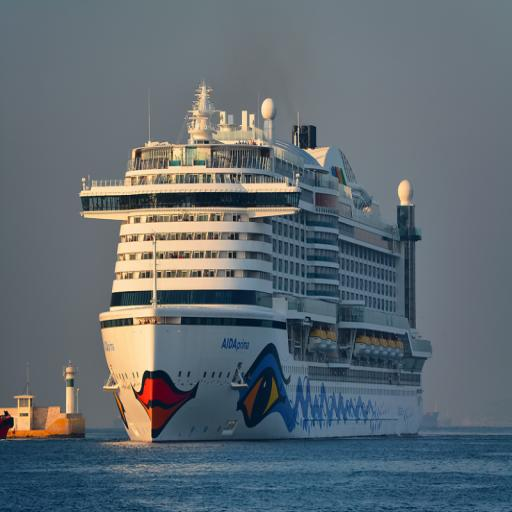cruises: (70, 74, 441, 447)
